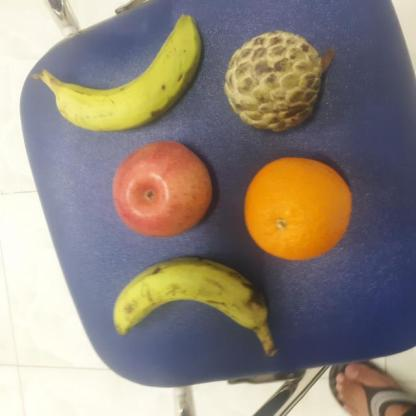annona: (222, 29, 326, 132)
apple: (111, 137, 215, 241)
banana: (40, 13, 210, 132), (106, 256, 274, 336)
orange: (242, 154, 357, 260)
